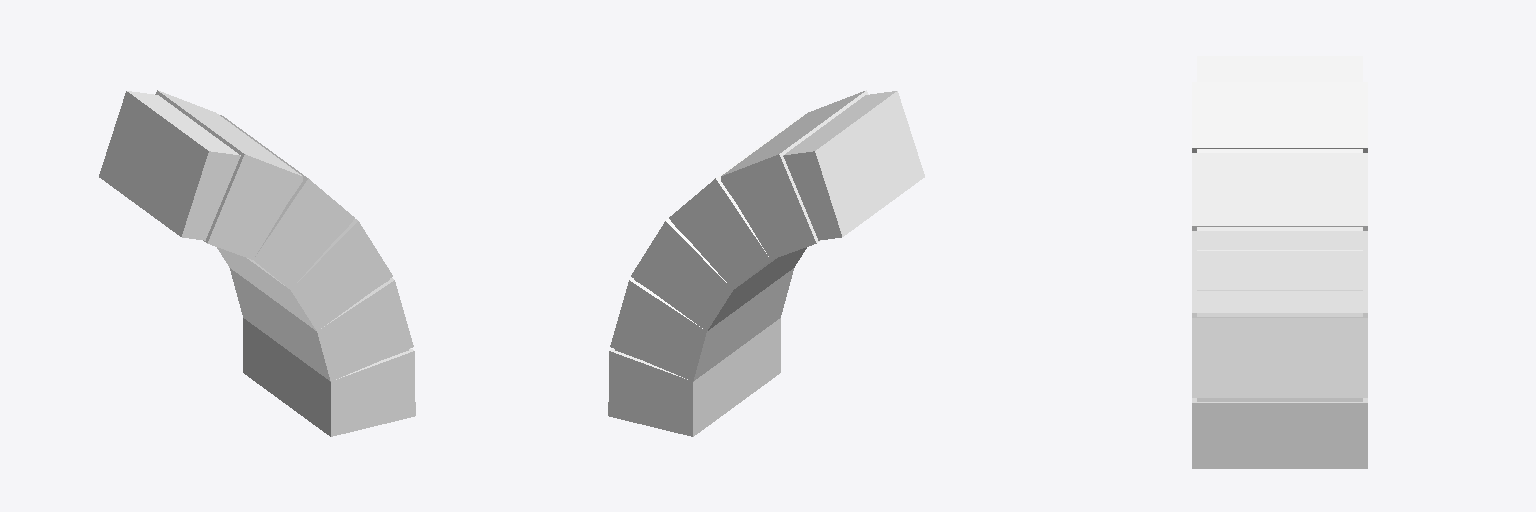
The model's file is generic_round_arch_3.obj.
3 renders of one model, left to right at view 1: azimuth 30°, elevation 25°; view 2: azimuth 150°, elevation 25°; view 3: azimuth 270°, elevation 25°, orthographic.
Visible parts, largest first — view 1: cube.049, cube.058, cube.056, cube.050, cube.054, cube.052; view 2: cube.049, cube.058, cube.056, cube.050, cube.054, cube.052; view 3: cube.056, cube.054, cube.052, cube.050, cube.058, cube.049, cube.053, cube.055, cube.051, cube.057.
Boxes of the visible parts, <box> form: cube.049: <box>99,91,240,240</box>; cube.058: <box>243,318,415,436</box>; cube.056: <box>230,268,413,381</box>; cube.050: <box>155,90,302,259</box>; cube.054: <box>217,219,392,330</box>; cube.052: <box>220,115,354,289</box>; cube.049: <box>783,91,924,240</box>; cube.058: <box>608,318,780,436</box>; cube.056: <box>610,268,793,381</box>; cube.050: <box>721,90,868,259</box>; cube.054: <box>631,219,806,330</box>; cube.052: <box>669,115,803,289</box>; cube.056: <box>1192,313,1367,397</box>; cube.054: <box>1192,231,1367,312</box>; cube.052: <box>1192,153,1367,230</box>; cube.050: <box>1192,82,1367,152</box>; cube.058: <box>1192,398,1367,468</box>; cube.049: <box>1197,56,1362,81</box>; cube.053: <box>1197,227,1362,250</box>; cube.055: <box>1197,290,1362,316</box>; cube.051: <box>1197,149,1362,152</box>; cube.057: <box>1197,398,1362,401</box>.
Size of the model in its own units: 1.72 by 2.22 by 1.13.